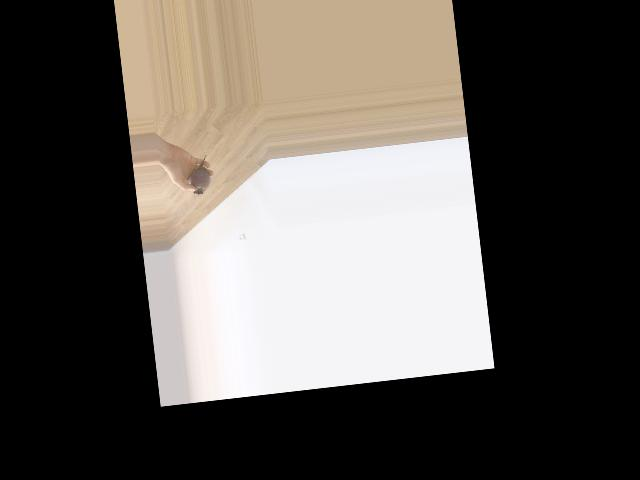beet: (185, 155, 213, 195)
